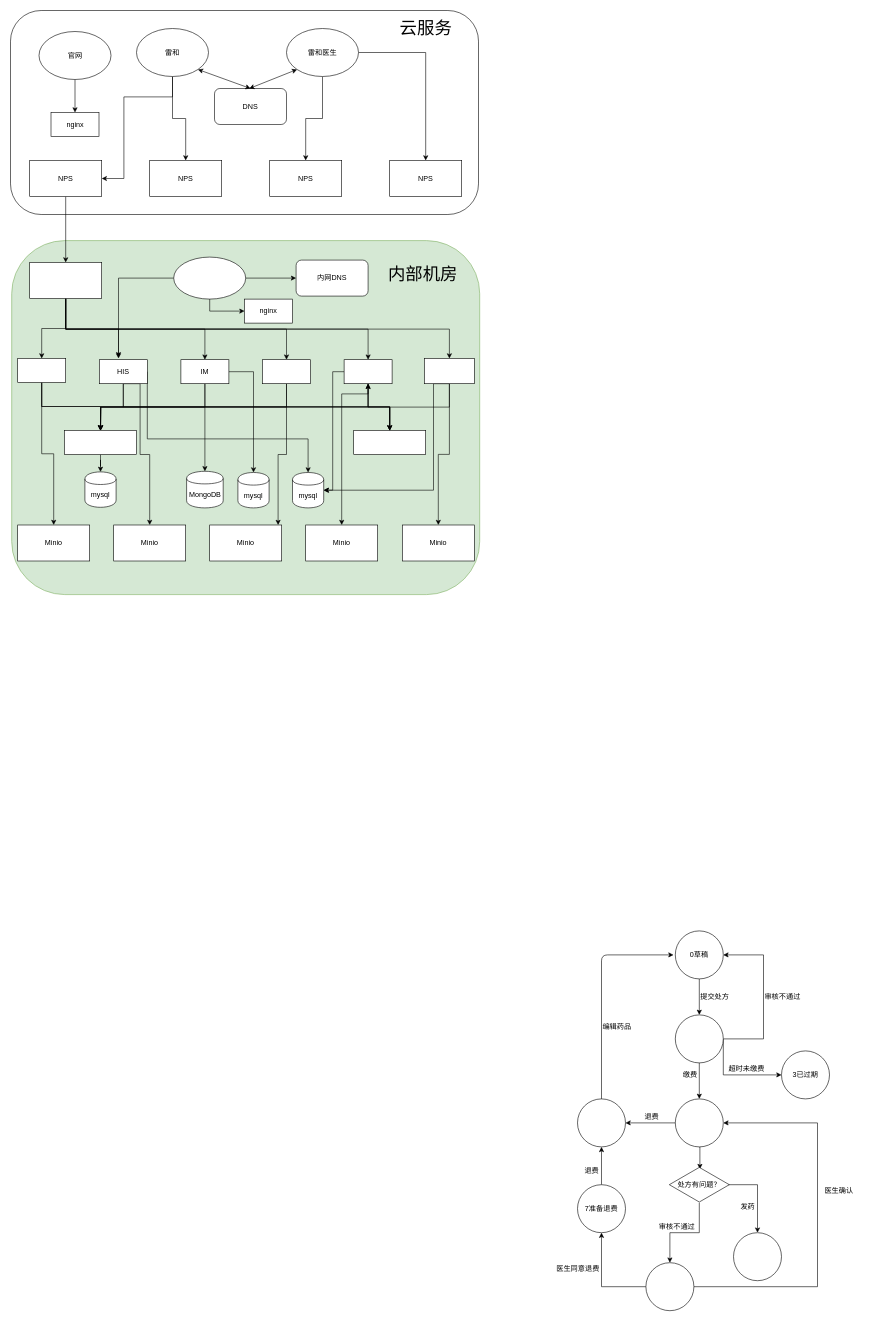
The diagram is 870 pixels wide and 1321 high, and some of its shapes have lost their labels. The shapes that lost their labels are listed below. From the top down, each one's centre as x and y in pixels, then its label:
At (x=65, y=280): "NPC".
At (x=209, y=277): "HIS PC端".
At (x=41, y=370): "OA".
At (x=286, y=371): "THUMBER".
At (x=368, y=371): "Netdisk".
At (x=449, y=371): "Evangel".
At (x=100, y=442): "ERP".
At (x=389, y=442): "Gofound".
At (x=699, y=1038): "1已提交".
At (x=601, y=1122): "4已退费".
At (x=699, y=1122): "2已缴费".
At (x=757, y=1256): "5已取药 （完成）".
At (x=669, y=1286): "6审核不通过".
